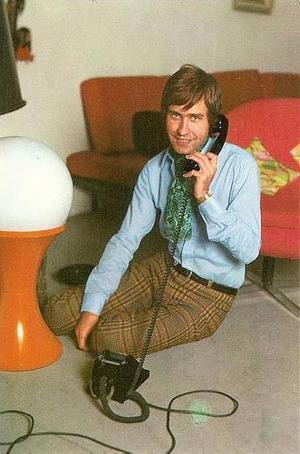person: (42, 61, 262, 363)
